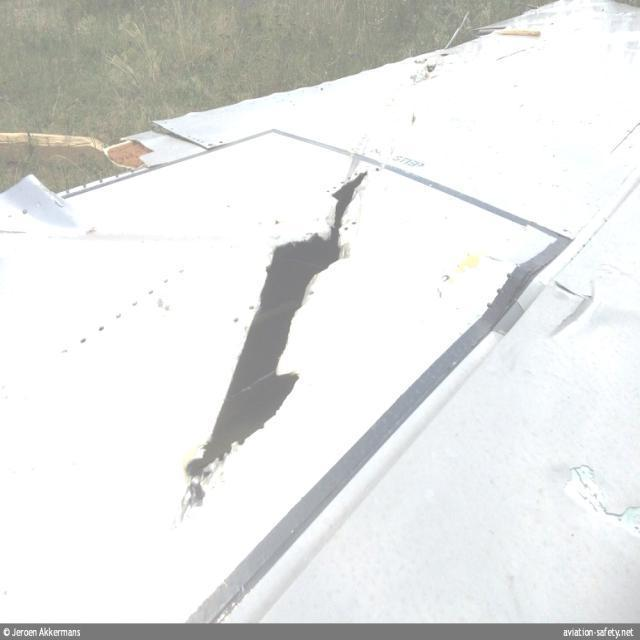crack: (181, 169, 369, 510)
